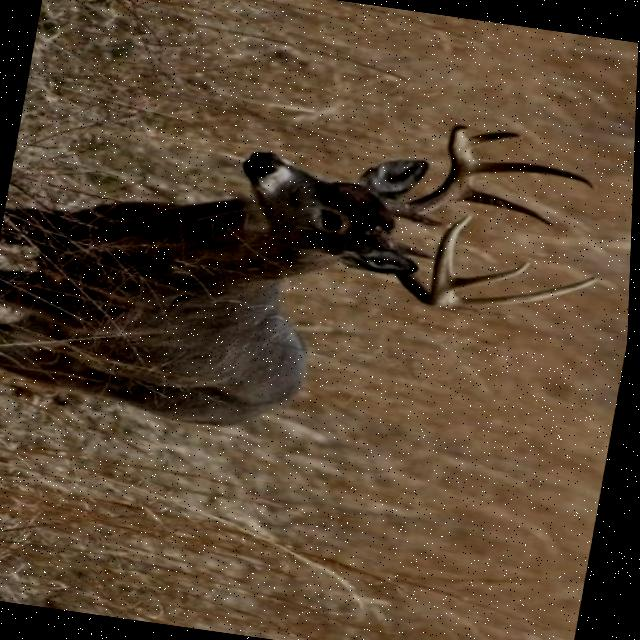L-G1: (397, 240, 436, 259)
L-G3: (453, 276, 600, 306)
L-G4: (454, 261, 534, 288)
R-G1: (404, 211, 453, 227)
R-G2: (457, 186, 557, 226)
R-G3: (474, 159, 597, 189)
R-G4: (469, 130, 524, 145)
